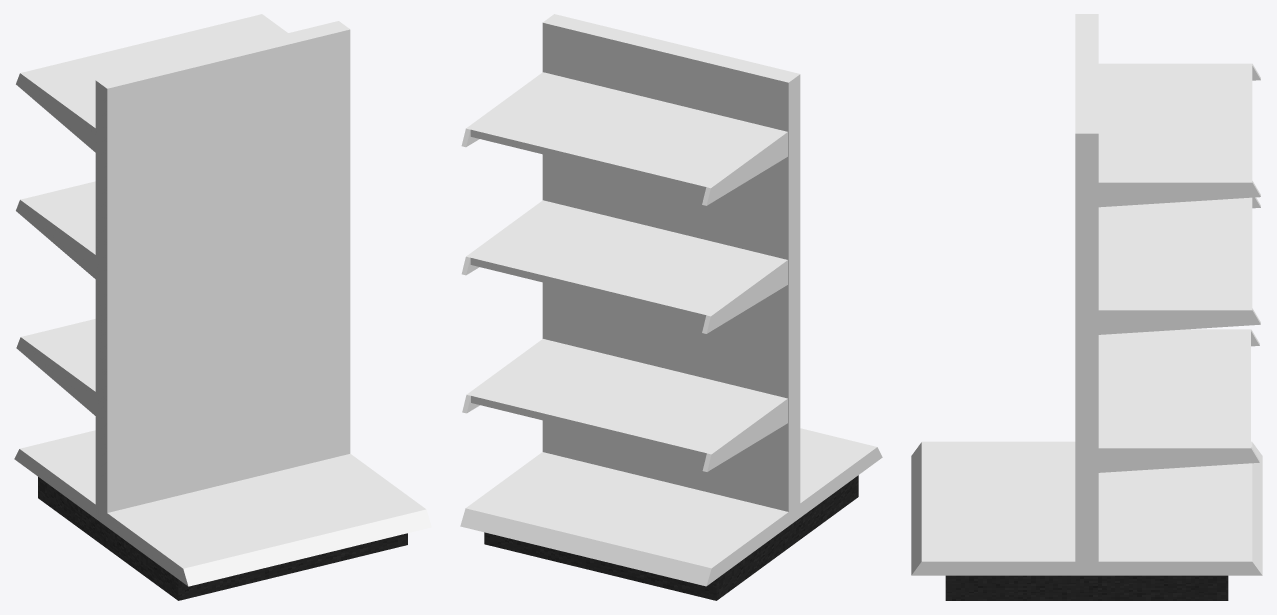
File: commerical_shelf_one_side.glb
3 renders of one model, left to right at view 1: azimuth 30°, elevation 25°; view 2: azimuth 150°, elevation 25°; view 3: azimuth 270°, elevation 25°, orthographic.
Visible parts, largest first — view 1: Commerical_Shelf_One_Side, Commerical_Shelf_One_Side_Base, Commerical_Shelf_One_Side_Shelf, Commerical_Shelf_One_Side_Bottom, Commerical_Shelf_One_Side_Shelf.001, Commerical_Shelf_One_Side_Shelf.002, Commerical_Shelf_One_Side_Shelf_EndCap.001, Commerical_Shelf_One_Side_Shelf_EndCap.004, Commerical_Shelf_One_Side_Shelf_EndCap; view 2: Commerical_Shelf_One_Side, Commerical_Shelf_One_Side_Base, Commerical_Shelf_One_Side_Shelf.001, Commerical_Shelf_One_Side_Shelf, Commerical_Shelf_One_Side_Shelf.002, Commerical_Shelf_One_Side_Bottom, Commerical_Shelf_One_Side_Shelf_EndCap.001, Commerical_Shelf_One_Side_Shelf_EndCap.004, Commerical_Shelf_One_Side_Shelf_EndCap, Commerical_Shelf_One_Side_Shelf_EndCap.003, Commerical_Shelf_One_Side_Shelf_EndCap.002, Commerical_Shelf_One_Side_Shelf_EndCap.005; view 3: Commerical_Shelf_One_Side_Base, Commerical_Shelf_One_Side_Shelf, Commerical_Shelf_One_Side_Shelf.002, Commerical_Shelf_One_Side_Shelf.001, Commerical_Shelf_One_Side, Commerical_Shelf_One_Side_Bottom, Commerical_Shelf_One_Side_Shelf_EndCap.002, Commerical_Shelf_One_Side_Shelf_EndCap.003, Commerical_Shelf_One_Side_Shelf_EndCap.005, Commerical_Shelf_One_Side_Shelf_EndCap.001.
Boxes of the visible parts, x1,y1,x2,y2 form: Commerical_Shelf_One_Side: (95, 21, 350, 512); Commerical_Shelf_One_Side_Base: (14, 430, 431, 586); Commerical_Shelf_One_Side_Shelf: (25, 15, 283, 123); Commerical_Shelf_One_Side_Bottom: (38, 477, 407, 600); Commerical_Shelf_One_Side_Shelf.001: (25, 181, 95, 250); Commerical_Shelf_One_Side_Shelf.002: (25, 319, 95, 387); Commerical_Shelf_One_Side_Shelf_EndCap.001: (16, 72, 95, 152); Commerical_Shelf_One_Side_Shelf_EndCap.004: (16, 198, 95, 278); Commerical_Shelf_One_Side_Shelf_EndCap: (16, 336, 95, 415); Commerical_Shelf_One_Side: (542, 14, 800, 511); Commerical_Shelf_One_Side_Base: (460, 428, 882, 586); Commerical_Shelf_One_Side_Shelf.001: (470, 201, 782, 321); Commerical_Shelf_One_Side_Shelf: (470, 73, 782, 193); Commerical_Shelf_One_Side_Shelf.002: (471, 340, 782, 459); Commerical_Shelf_One_Side_Bottom: (484, 475, 858, 600); Commerical_Shelf_One_Side_Shelf_EndCap.001: (702, 131, 787, 205); Commerical_Shelf_One_Side_Shelf_EndCap.004: (702, 259, 787, 333); Commerical_Shelf_One_Side_Shelf_EndCap: (702, 397, 787, 471); Commerical_Shelf_One_Side_Shelf_EndCap.003: (461, 200, 546, 275); Commerical_Shelf_One_Side_Shelf_EndCap.002: (461, 72, 546, 147); Commerical_Shelf_One_Side_Shelf_EndCap.005: (462, 339, 546, 413); Commerical_Shelf_One_Side_Base: (911, 441, 1262, 575); Commerical_Shelf_One_Side_Shelf: (1098, 65, 1252, 180); Commerical_Shelf_One_Side_Shelf.002: (1098, 331, 1250, 445); Commerical_Shelf_One_Side_Shelf.001: (1098, 197, 1252, 307); Commerical_Shelf_One_Side: (1075, 14, 1098, 561); Commerical_Shelf_One_Side_Bottom: (945, 575, 1228, 600); Commerical_Shelf_One_Side_Shelf_EndCap.002: (1098, 180, 1260, 207); Commerical_Shelf_One_Side_Shelf_EndCap.003: (1098, 308, 1260, 334); Commerical_Shelf_One_Side_Shelf_EndCap.005: (1098, 446, 1259, 472); Commerical_Shelf_One_Side_Shelf_EndCap.001: (1098, 63, 1260, 80).
Bounding box in the file's own units: 0.9144 × 1.68 × 1.13.
Materials: 4 (1 with a texture image).
